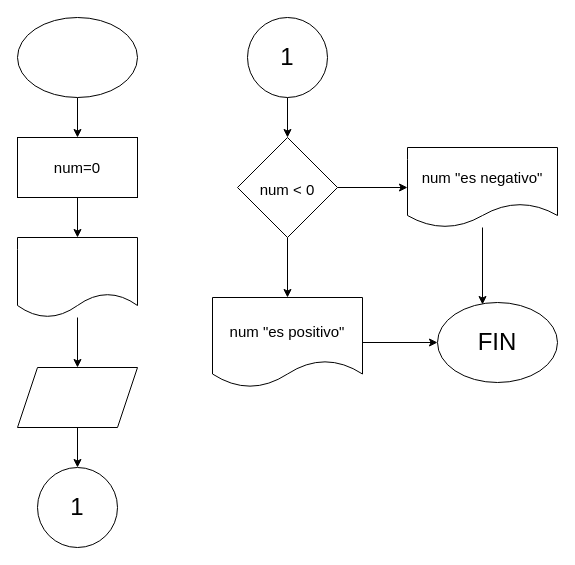
The diagram is 575 pixels wide and 565 high, and some of its shapes have lost their labels. Each missing label, with the centre of its shape:
"Ingresa un número": the point at 77,277
INICIO: the point at 77,57
num: the point at 77,397
